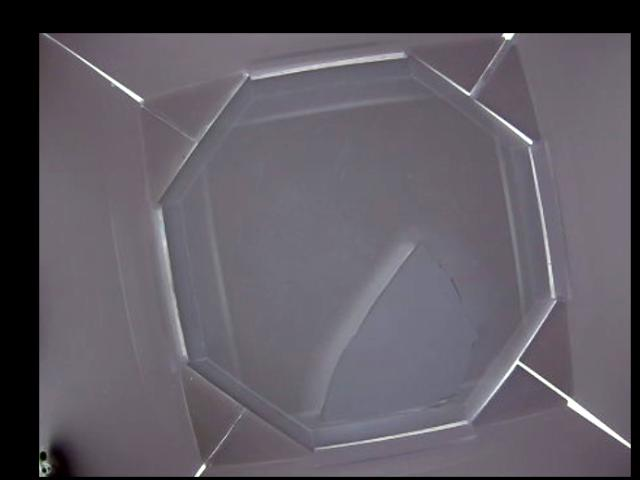China: (316, 240, 473, 429)
